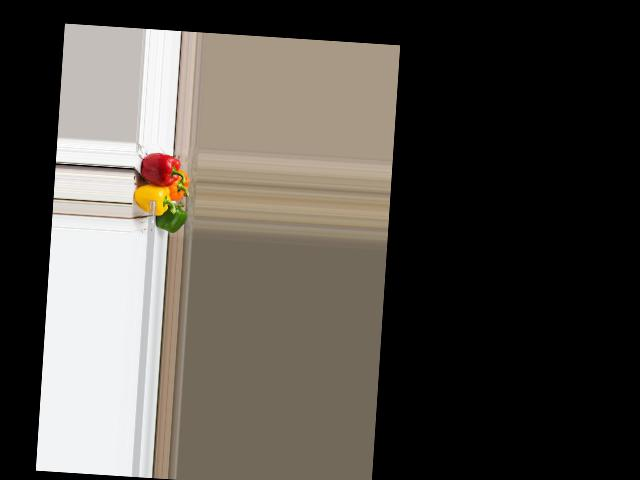bell_pepper: (166, 168, 191, 202)
